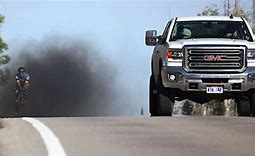smoke: (4, 41, 112, 117)
